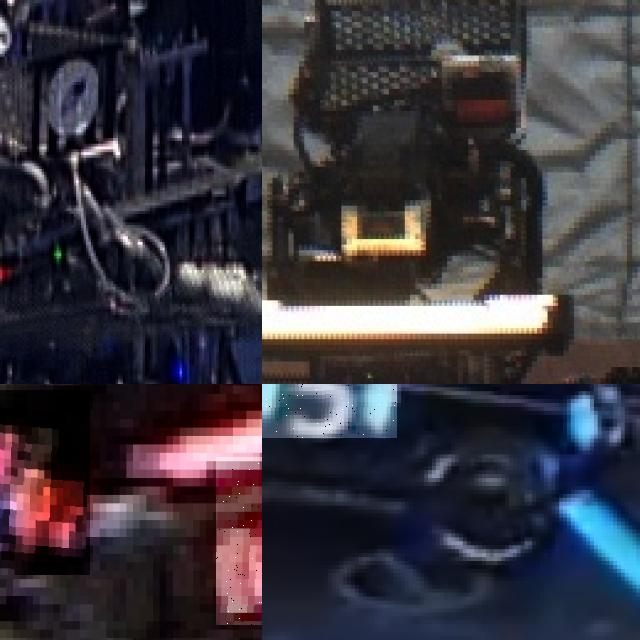B5: (262, 384, 397, 438)
R3: (0, 389, 89, 575), (216, 456, 262, 625)
